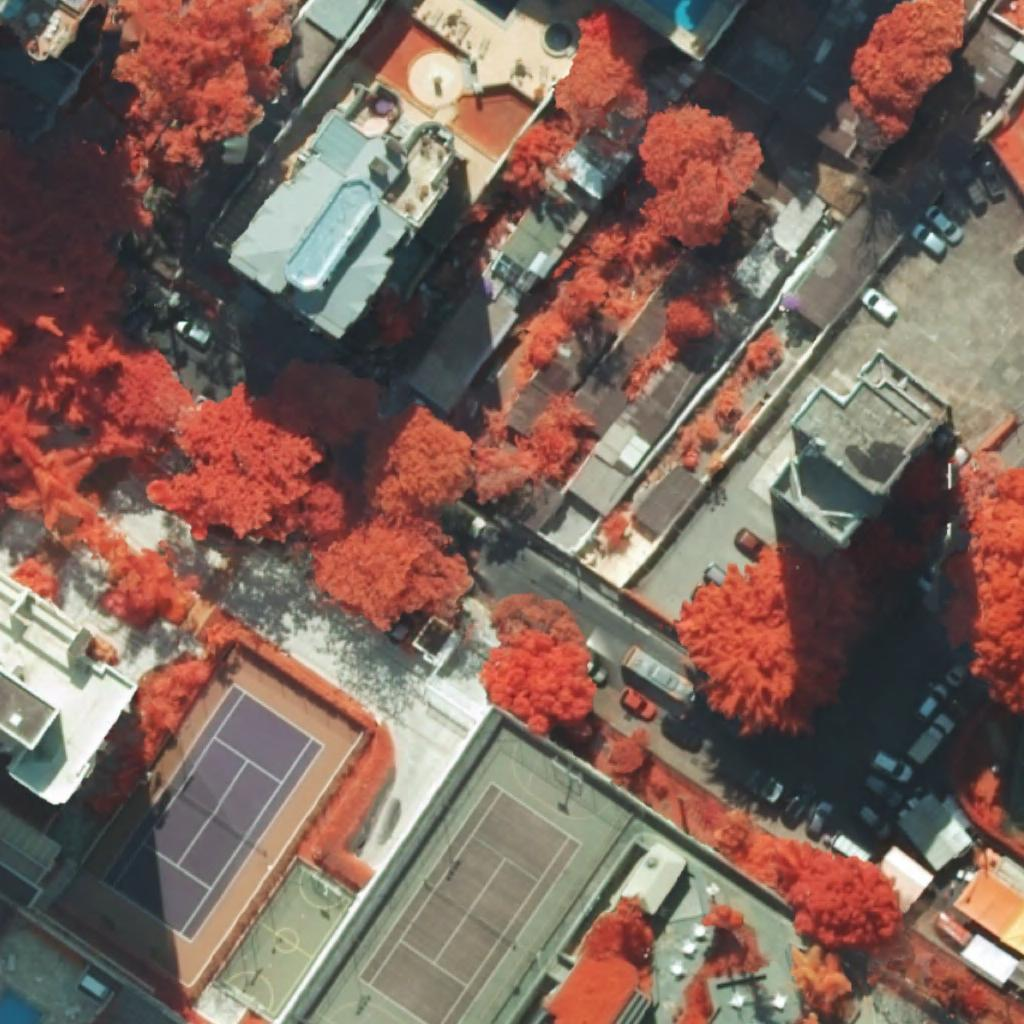pool: (545, 23, 573, 51)
